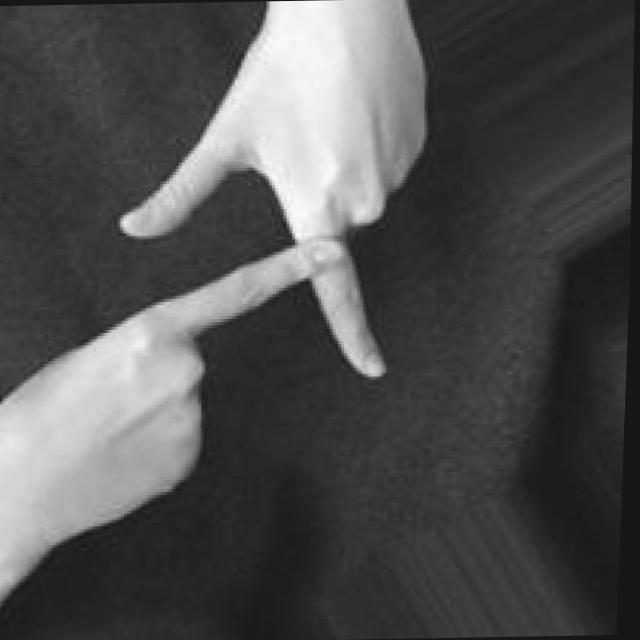F: (0, 0, 441, 546)
